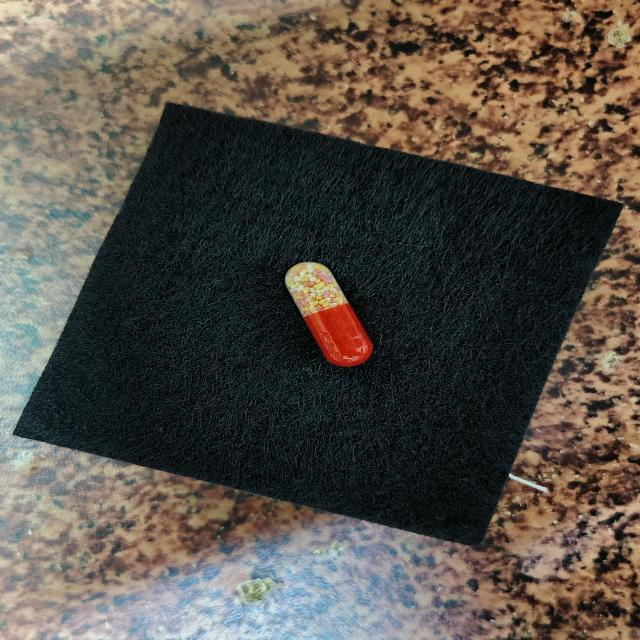Intact Capsule: (285, 261, 373, 366)
